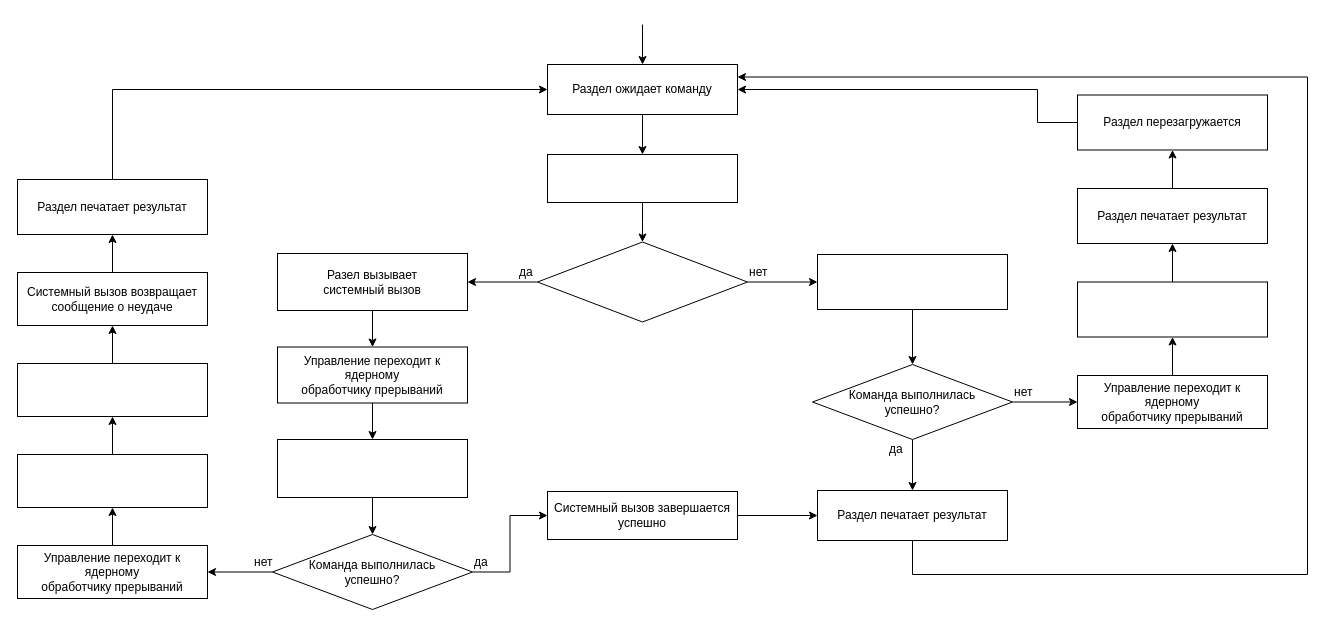
This 1333x627 diagram has some shape labels left out. The shapes that lost their labels are listed below. From the top down, each one's box as (x1, y1, x2, y2) in pixels, then its label:
(546, 154, 738, 202): Команда пришла
(536, 241, 748, 322): Это команда для ядра?
(816, 254, 1008, 310): Раздел пытается выполнить команду
(1076, 281, 1268, 337): Управление переходит к пользовательскому обработчику прерываний
(16, 362, 208, 416): Восстанавливается контекст, сохраненный ранее
(16, 454, 208, 508): Проверяется, что прерывание произошло при тестировании
(276, 438, 468, 498): Ядро пытается выполнить команду
